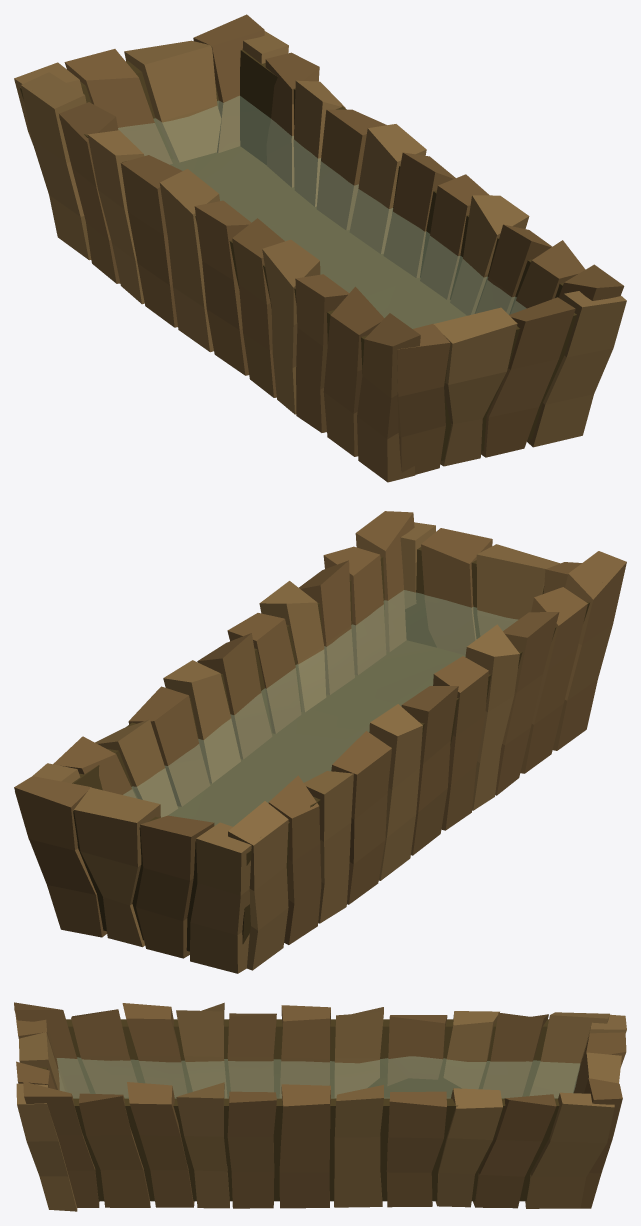
File: WaterTrough.fbx
3 views of the same model, one above another, from view 1: azimuth 30°, elevation 25°; view 2: azimuth 150°, elevation 25°; view 3: azimuth 270°, elevation 25° (orthographic). The views are drawn at different scales.
Visible parts, largest first — view 1: Cube.002; view 2: Cube.002; view 3: Cube.002.
Part boxes in pixels (box(x1,y1,x2,y2)): Cube.002: box(14, 14, 626, 482); Cube.002: box(14, 511, 626, 973); Cube.002: box(14, 1002, 626, 1211).
Size of the model in its own units: 84.17 by 54.37 by 232.
